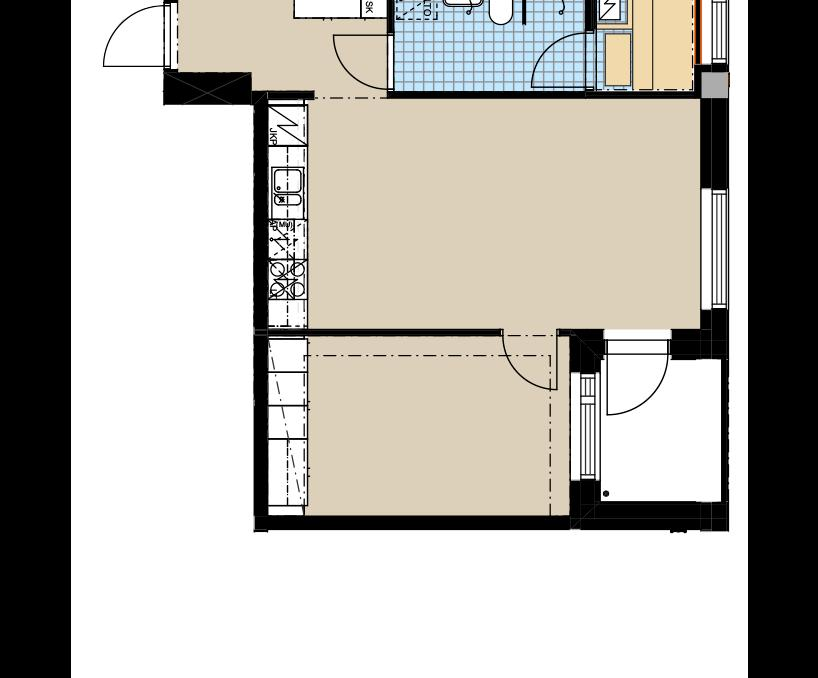bathroom: (390, 0, 586, 91)
door: (96, 2, 182, 73), (601, 336, 670, 417), (496, 323, 563, 393), (524, 30, 596, 94), (330, 30, 396, 94)
perimeter: (167, 0, 724, 530)
window: (694, 182, 734, 314), (563, 368, 603, 485), (690, 0, 731, 74)
